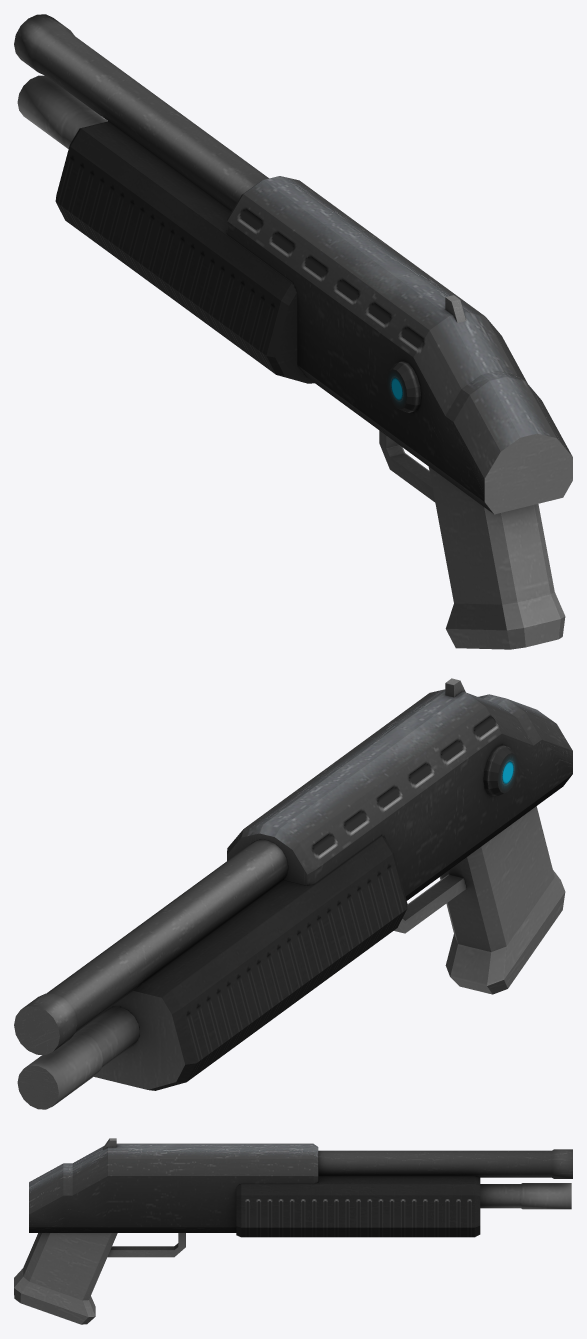
Rendered from Shotgun_final.obj.
3 renders of one model, top to bottom at view 1: azimuth 30°, elevation 25°; view 2: azimuth 150°, elevation 25°; view 3: azimuth 270°, elevation 25°, orthographic. The views are drawn at different scales.
Visible parts, largest first — view 1: Mesh_Cube.007_Cube.002; view 2: Mesh_Cube.007_Cube.002; view 3: Mesh_Cube.007_Cube.002.
Boxes of the visible parts, x1,y1,x2,y2 form: Mesh_Cube.007_Cube.002: (14, 14, 572, 649); Mesh_Cube.007_Cube.002: (14, 678, 572, 1109); Mesh_Cube.007_Cube.002: (14, 1138, 572, 1324).
Size of the model in its own units: 2.55 by 5.64 by 15.84.
Materials: 5 (5 with a texture image).
